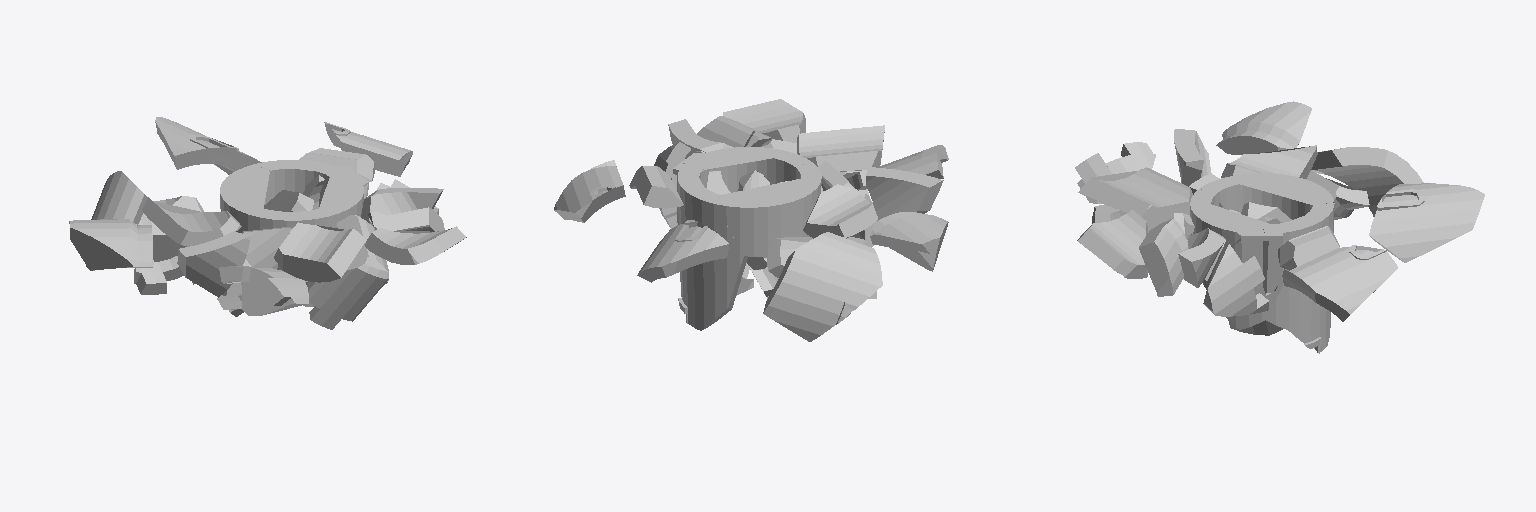
The model's file is destruction_tower_000065.obj.
The picture shows the model from 3 angles: view 1: azimuth 30°, elevation 25°; view 2: azimuth 150°, elevation 25°; view 3: azimuth 270°, elevation 25°; orthographic projection.
Parts seen in each view (by area): view 1: tower.001_cell.024_Mesh.024, tower.001_cell.005_Mesh.005, tower.001_cell.011_Mesh.011, tower.001_cell.006_Mesh.006, tower.001_cell.025_Mesh.025, tower.001_cell.002_Mesh.002, tower.001_cell.009_Mesh.009, tower.001_cell.021_Mesh.021, tower.001_cell.007_Mesh.007, tower.001_cell.028_Mesh.028, tower.001_cell.015_Mesh.015, tower.001_cell.012_Mesh.012 (+9 smaller); view 2: tower.001_cell.003_Mesh.003, tower.001_cell.017_Mesh.017, tower.001_cell.015_Mesh.015, tower.001_cell.024_Mesh.024, tower.001_cell.025_Mesh.025, tower.001_cell.028_Mesh.028, tower.001_cell.005_Mesh.005, tower.001_cell.002_Mesh.002, tower.001_cell.009_Mesh.009, tower.001_cell.012_Mesh.012, tower.001_cell.021_Mesh.021, tower.001_cell.016_Mesh.016 (+7 smaller); view 3: tower.001_cell.025_Mesh.025, tower.001_cell.012_Mesh.012, tower.001_cell.024_Mesh.024, tower.001_cell.003_Mesh.003, tower.001_cell.005_Mesh.005, tower.001_cell.030_Mesh.030, tower.001_cell.021_Mesh.021, tower.001_cell.017_Mesh.017, tower.001_cell.015_Mesh.015, tower.001_cell_Mesh, tower.001_cell.028_Mesh.028, tower.001_cell.009_Mesh.009 (+9 smaller).
Part boxes in pixels (x1,y1,x2,y2): tower.001_cell.024_Mesh.024: (274,222,365,282); tower.001_cell.005_Mesh.005: (69,219,153,270); tower.001_cell.011_Mesh.011: (307,257,388,329); tower.001_cell.006_Mesh.006: (219,266,308,315); tower.001_cell.025_Mesh.025: (155,117,261,174); tower.001_cell.002_Mesh.002: (177,231,249,297); tower.001_cell.009_Mesh.009: (142,197,241,246); tower.001_cell.021_Mesh.021: (364,226,466,264); tower.001_cell.007_Mesh.007: (134,196,203,294); tower.001_cell.028_Mesh.028: (289,177,368,227); tower.001_cell.015_Mesh.015: (220,165,269,232); tower.001_cell.012_Mesh.012: (324,122,412,176); tower.001_cell.003_Mesh.003: (763,232,882,341); tower.001_cell.017_Mesh.017: (678,173,747,330); tower.001_cell.015_Mesh.015: (716,179,819,257); tower.001_cell.024_Mesh.024: (797,125,884,174); tower.001_cell.025_Mesh.025: (637,220,729,282); tower.001_cell.028_Mesh.028: (693,147,809,192); tower.001_cell.005_Mesh.005: (870,212,948,271); tower.001_cell.002_Mesh.002: (866,167,943,220); tower.001_cell.009_Mesh.009: (803,184,877,238); tower.001_cell.012_Mesh.012: (554,160,625,222); tower.001_cell.021_Mesh.021: (723,99,805,142); tower.001_cell.016_Mesh.016: (629,166,683,208); tower.001_cell.025_Mesh.025: (1369,183,1484,262); tower.001_cell.012_Mesh.012: (1282,245,1397,321); tower.001_cell.024_Mesh.024: (1078,167,1192,221); tower.001_cell.003_Mesh.003: (1311,147,1423,216); tower.001_cell.005_Mesh.005: (1216,101,1311,154); tower.001_cell.030_Mesh.030: (1203,244,1268,316); tower.001_cell.021_Mesh.021: (1077,210,1147,278); tower.001_cell.017_Mesh.017: (1288,203,1334,353); tower.001_cell.015_Mesh.015: (1239,173,1333,219); tower.001_cell_Mesh: (1139,218,1187,296); tower.001_cell.028_Mesh.028: (1190,189,1268,256); tower.001_cell.009_Mesh.009: (1221,145,1317,178).
Size of the model in its own units: 123 by 44.52 by 122.